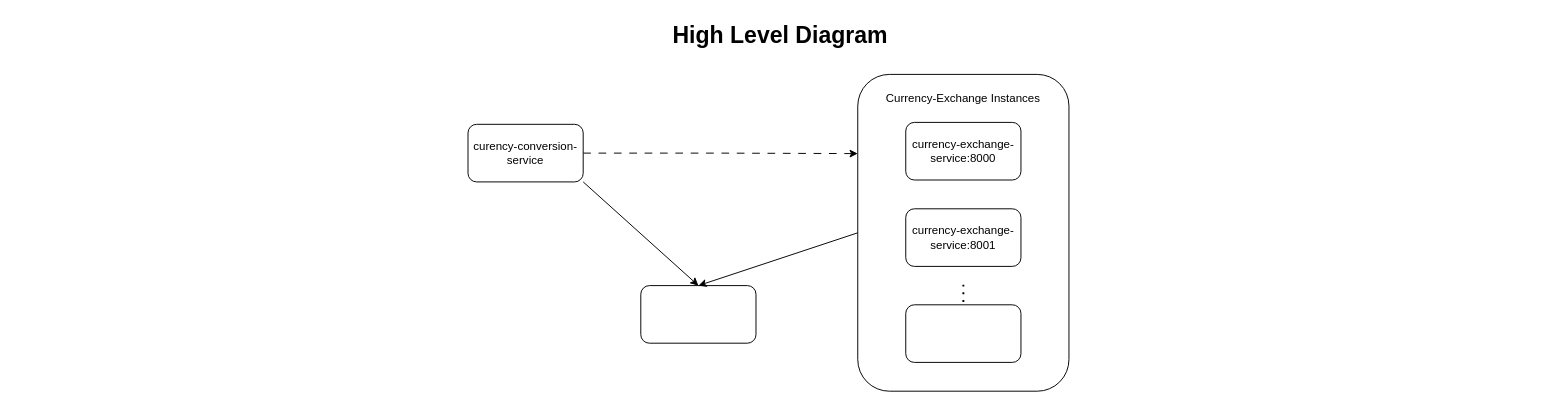
Some shapes in this 1559 by 408 pixel diagram are drawn without their labels. Here are the shapes that lost their labels. From the top down, the box of each, then its label:
(640, 285, 756, 343): naming-service
(905, 304, 1021, 362): currency-exchange-service:<port>
